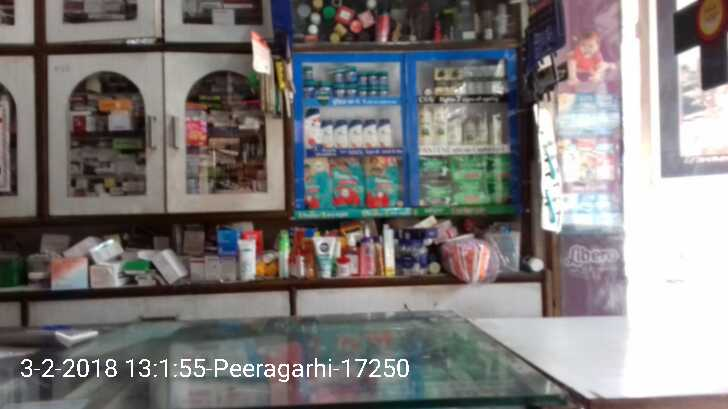vicks: (302, 59, 391, 102)
